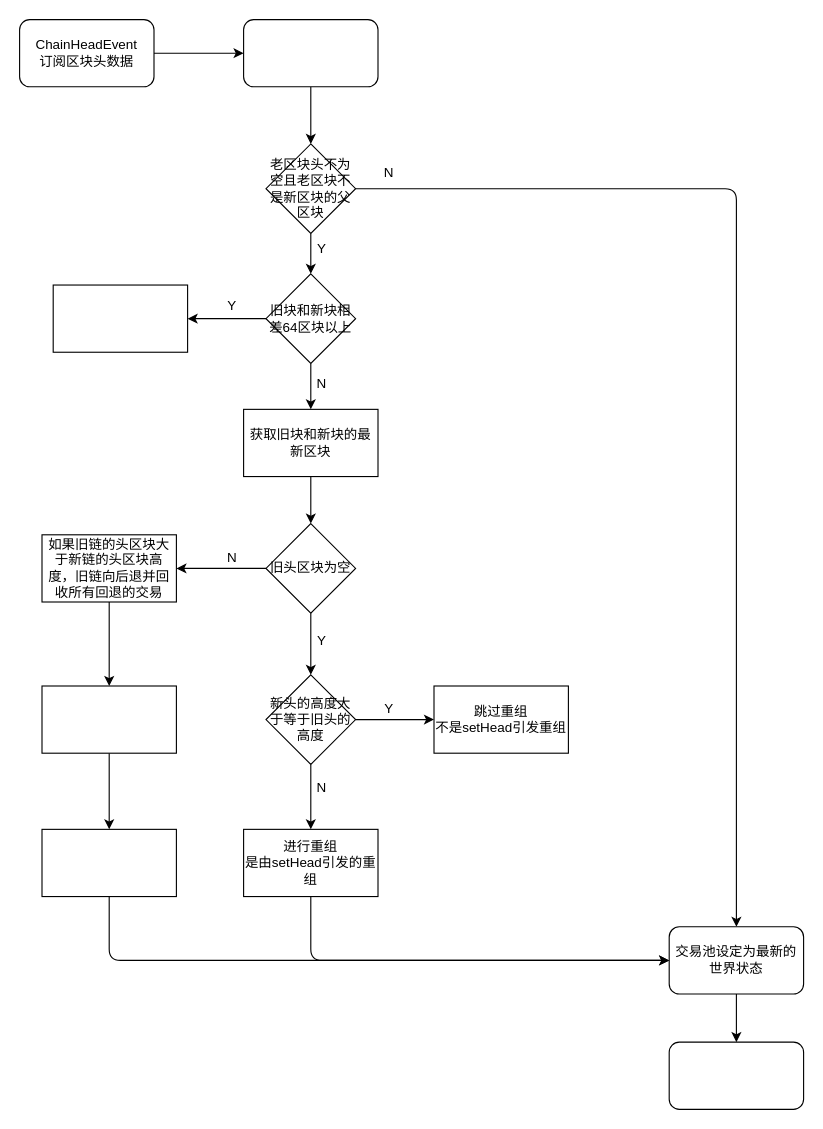
Some shapes in this 823 by 1129 pixel diagram are drawn without their labels. Here are the shapes that lost their labels. From the top down, the centre of each, then its label:
At point 310,52: "reset (core/txpool/txpool.go)".
At point 120,318: "跳过重组".
At point 108,719: "如果新链的头区块大于旧链的头区块，新链后退并回收交易".
At point 108,862: "当新旧链到达同一高度的时候同时回退，知道找到共同的父节点".
At point 736,1075: "将因重组丢弃的交易重新加回交易池中".
